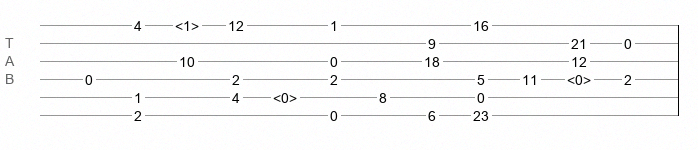0: (85, 72, 93, 82), (330, 108, 338, 118), (330, 54, 338, 64), (477, 90, 485, 100), (624, 36, 632, 46)
1: (134, 90, 142, 100), (330, 18, 338, 28)
10: (179, 54, 195, 64)
11: (522, 72, 538, 82)
12: (228, 18, 244, 28), (571, 54, 587, 64)
16: (473, 18, 489, 28)
18: (424, 54, 440, 64)
2: (134, 108, 142, 118), (232, 72, 240, 82), (330, 72, 338, 82), (624, 72, 632, 82)
21: (571, 36, 587, 46)
23: (473, 108, 489, 118)
4: (134, 18, 142, 28), (232, 90, 240, 100)
5: (477, 72, 485, 82)
6: (428, 108, 436, 118)
8: (379, 90, 387, 100)
9: (428, 36, 436, 46)
harmonic: (175, 18, 199, 28), (273, 90, 297, 100), (567, 72, 591, 82)
